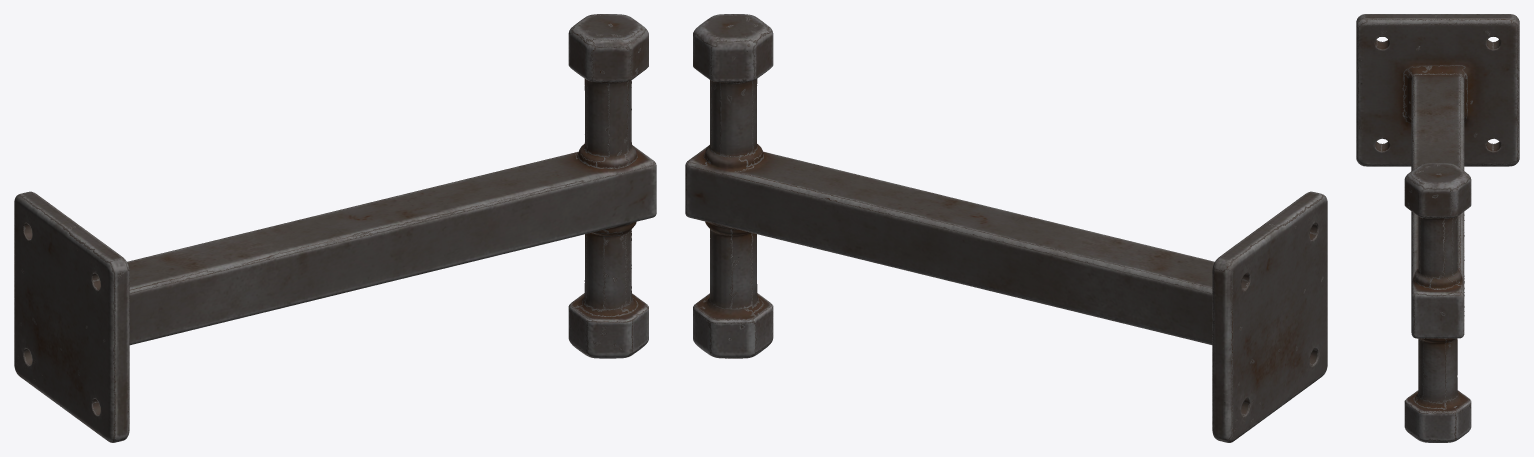
3 renders of one model, left to right at view 1: azimuth 30°, elevation 25°; view 2: azimuth 150°, elevation 25°; view 3: azimuth 270°, elevation 25°, orthographic. The views are drawn at different scales.
Size of the model in its own units: 1.8 by 0.945 by 0.5394.
1 material, 1 textured.
